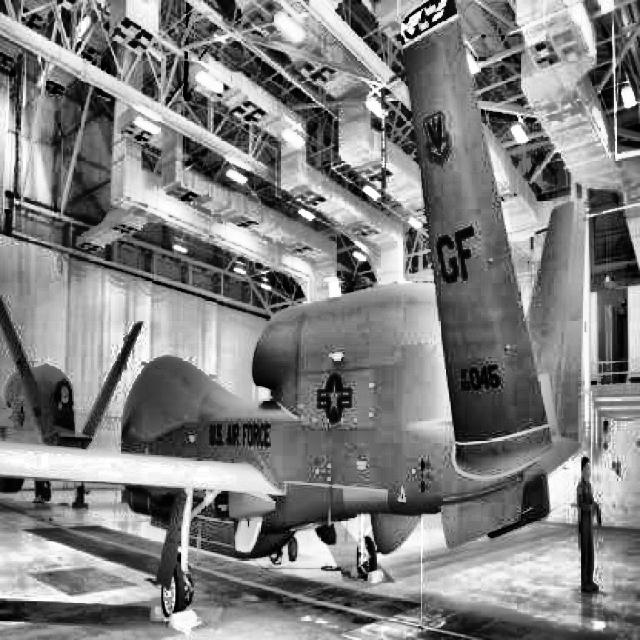RQ4: (0, 0, 597, 623), (0, 296, 145, 509)
